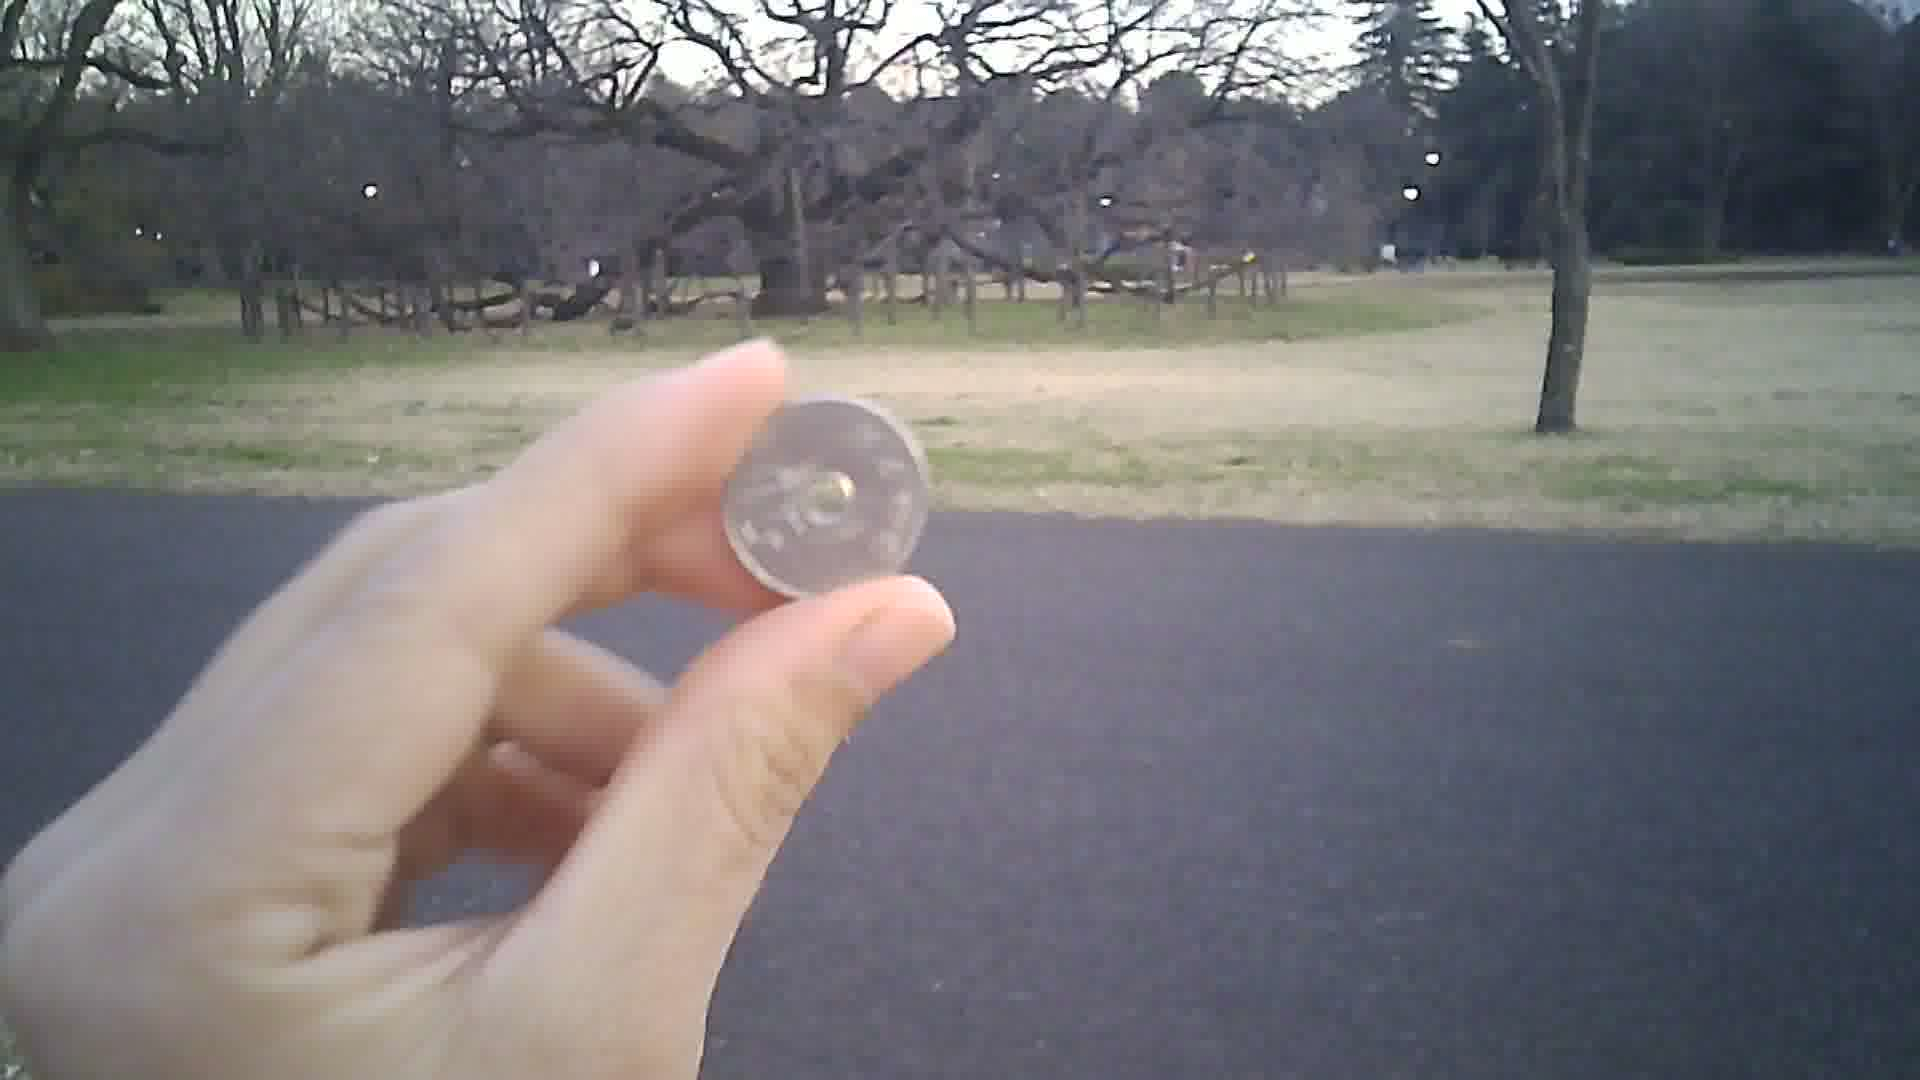50 Yen: (717, 396, 938, 605)
